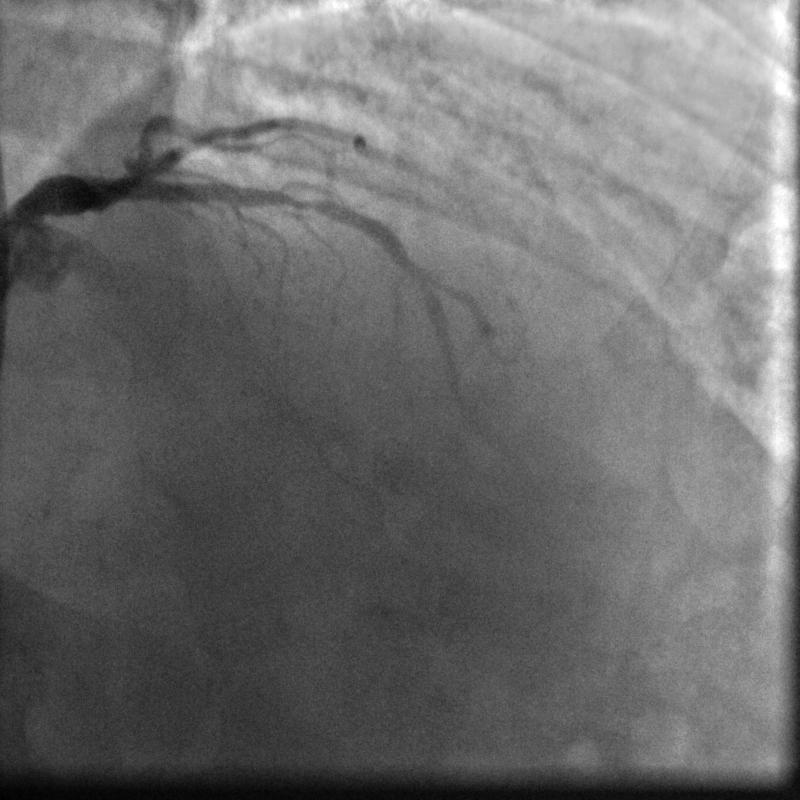Stenosis: (273, 184, 322, 214)
